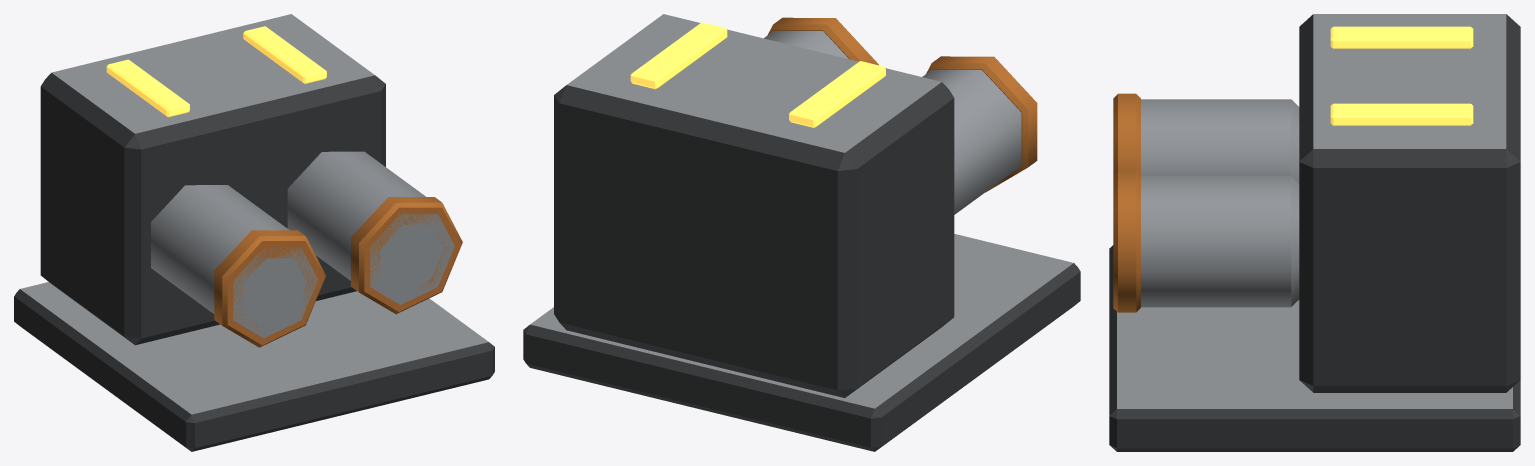
The model's file is R4X_DoubleShotPassive_LOD1.fbx.
3 views of the same model, side by side, from view 1: azimuth 30°, elevation 25°; view 2: azimuth 150°, elevation 25°; view 3: azimuth 270°, elevation 25° (orthographic). The views are drawn at different scales.
Parts seen in each view (by area): view 1: R4X_DoubleShotPassive_LOD1; view 2: R4X_DoubleShotPassive_LOD1; view 3: R4X_DoubleShotPassive_LOD1.
Boxes of the visible parts, x1=… form: R4X_DoubleShotPassive_LOD1: x1=14, y1=14, x2=494, y2=451; R4X_DoubleShotPassive_LOD1: x1=523, y1=14, x2=1080, y2=451; R4X_DoubleShotPassive_LOD1: x1=1109, y1=14, x2=1520, y2=451.
Size of the model in its own units: 0.52 by 0.415 by 0.52.
